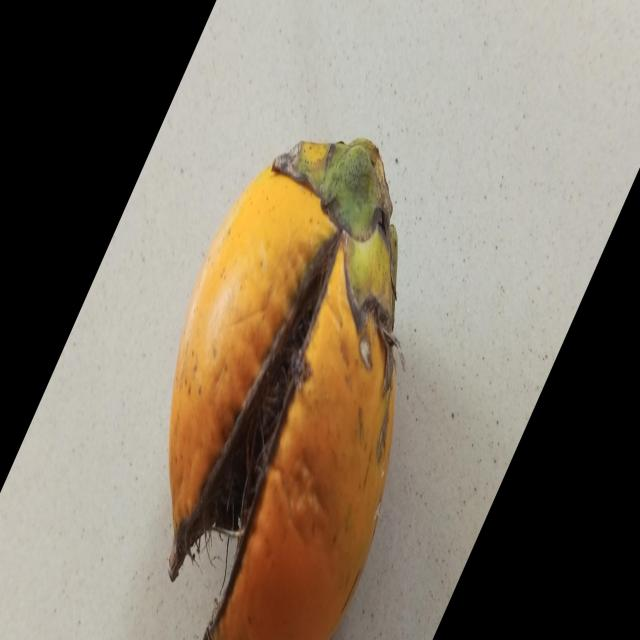damaged: (167, 141, 396, 640)
